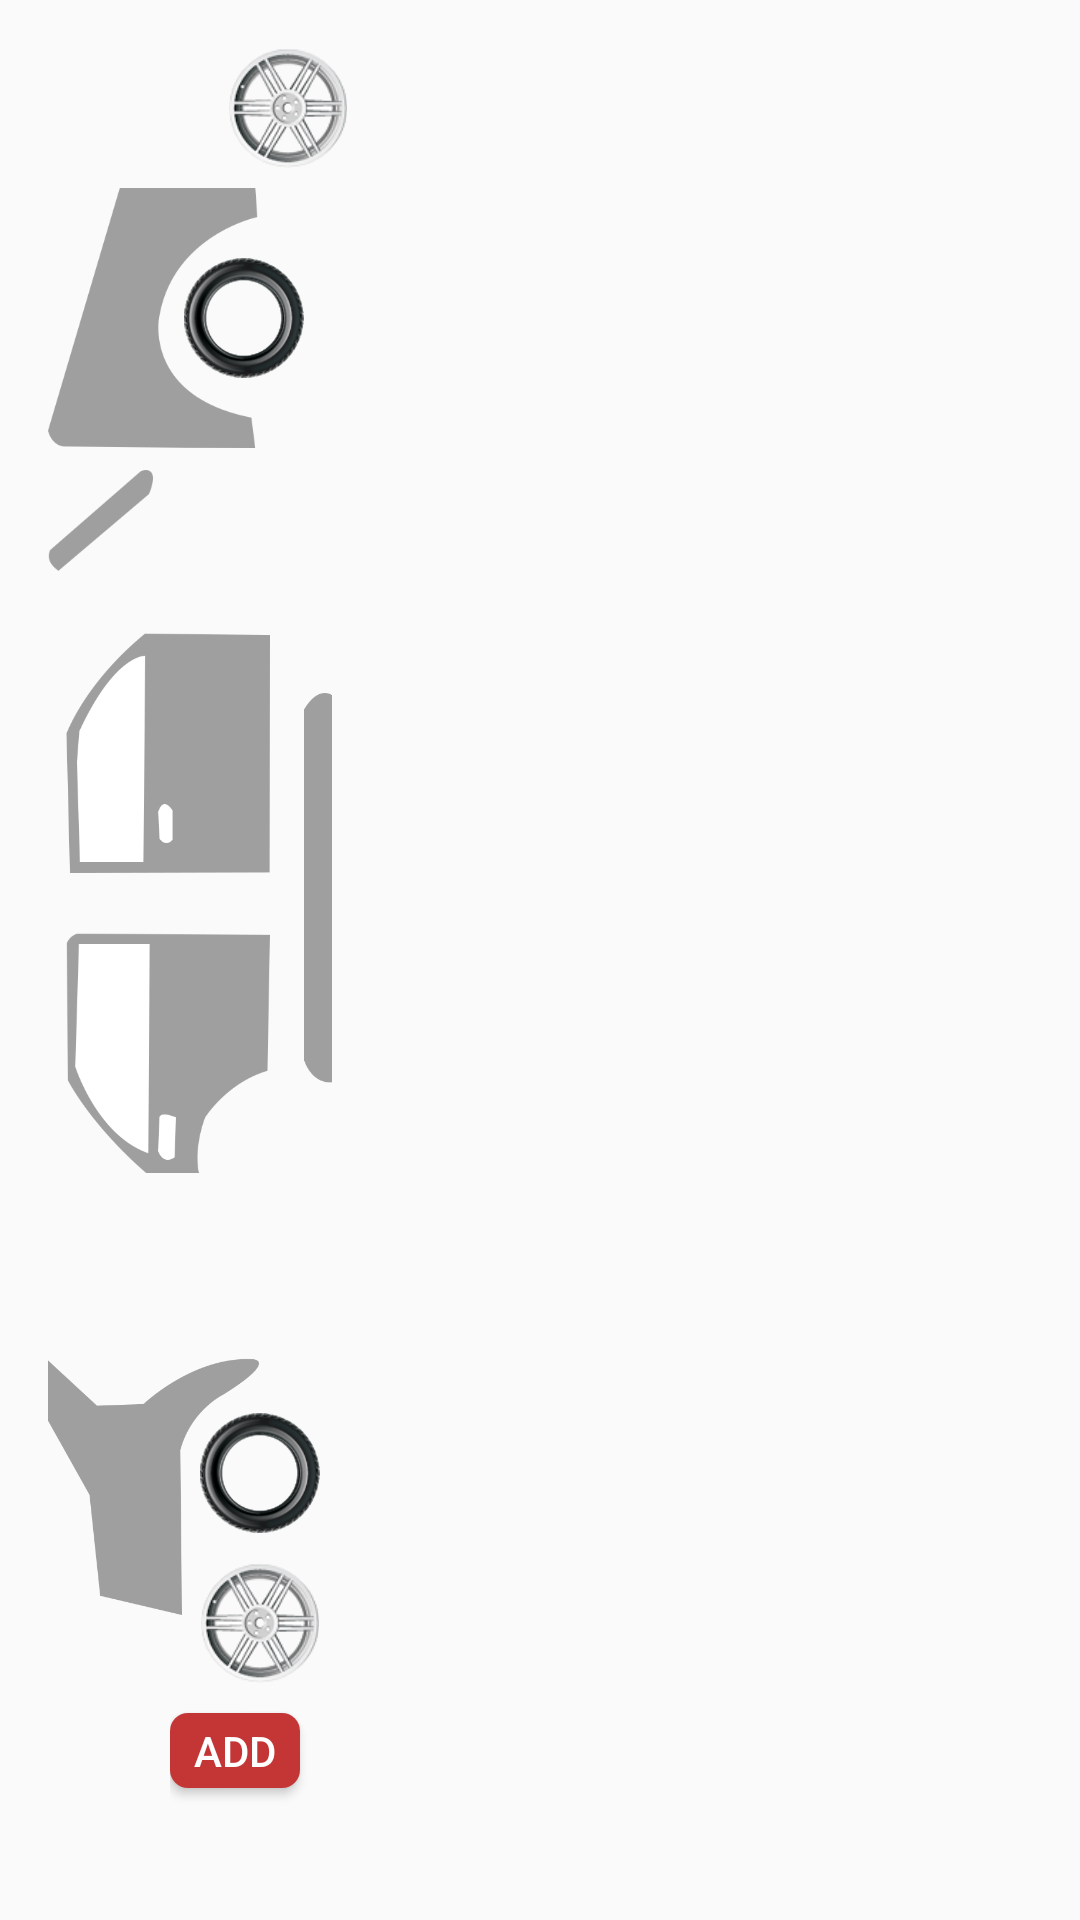

Point at icon controls on the screen. Image size 1080 × 1920, points as (x=x, y=y).
door front right: (x=168, y=753)
door rear right: (x=168, y=1053)
rim: (x=288, y=106), (x=260, y=1621)
